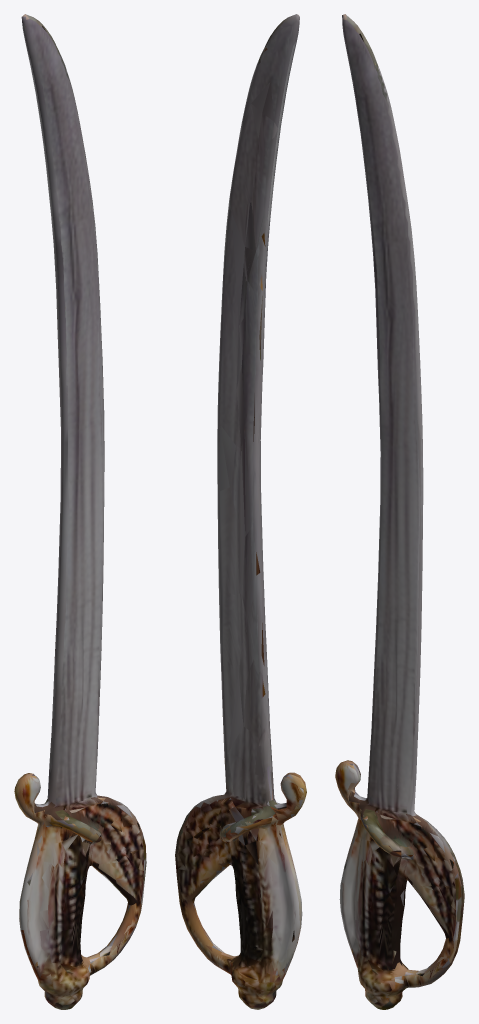
The model's file is SM_Saber_1864.fbx.
3 views of the same model, side by side, from view 1: azimuth 30°, elevation 25°; view 2: azimuth 150°, elevation 25°; view 3: azimuth 330°, elevation 25° (orthographic).
Parts seen in each view (by area): view 1: SM_Saber_1864; view 2: SM_Saber_1864; view 3: SM_Saber_1864.
Boxes of the visible parts, left/top/right/bottom form: SM_Saber_1864: left=14, top=14, right=146, bottom=1009; SM_Saber_1864: left=175, top=14, right=306, bottom=1009; SM_Saber_1864: left=335, top=14, right=464, bottom=1009.
Bounding box in the file's own units: 12.86 × 5.27 × 94.98.
1 material, 1 textured.
